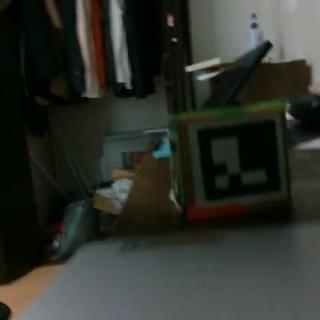armor: (190, 116, 288, 206)
robot: (164, 105, 295, 223)
